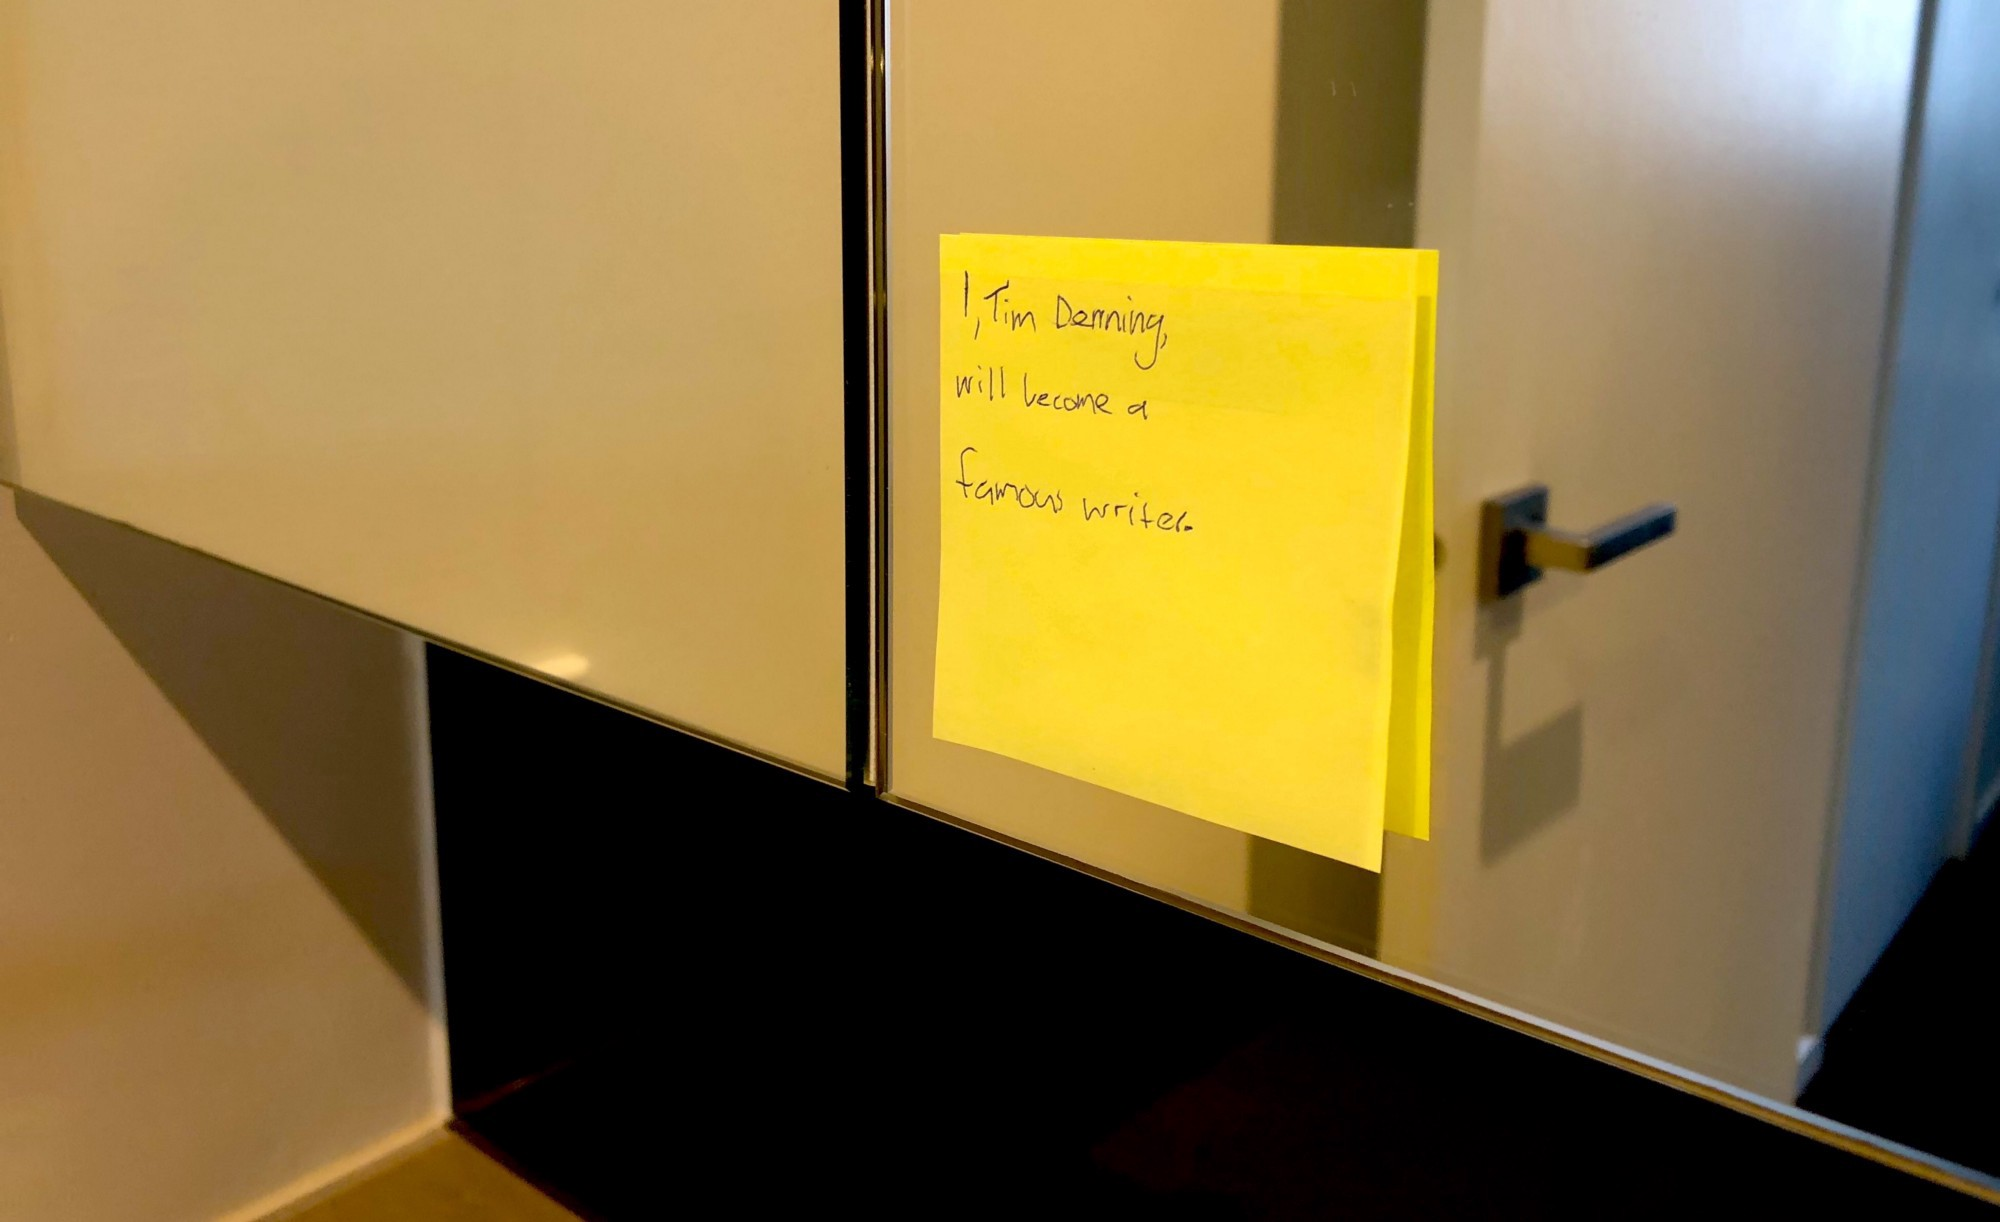Note: (934, 237, 1429, 875)
